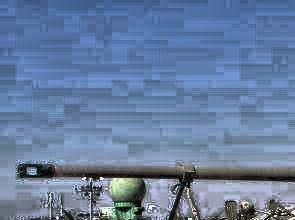tanks: (19, 165, 295, 187), (250, 208, 295, 220), (225, 205, 249, 220)
